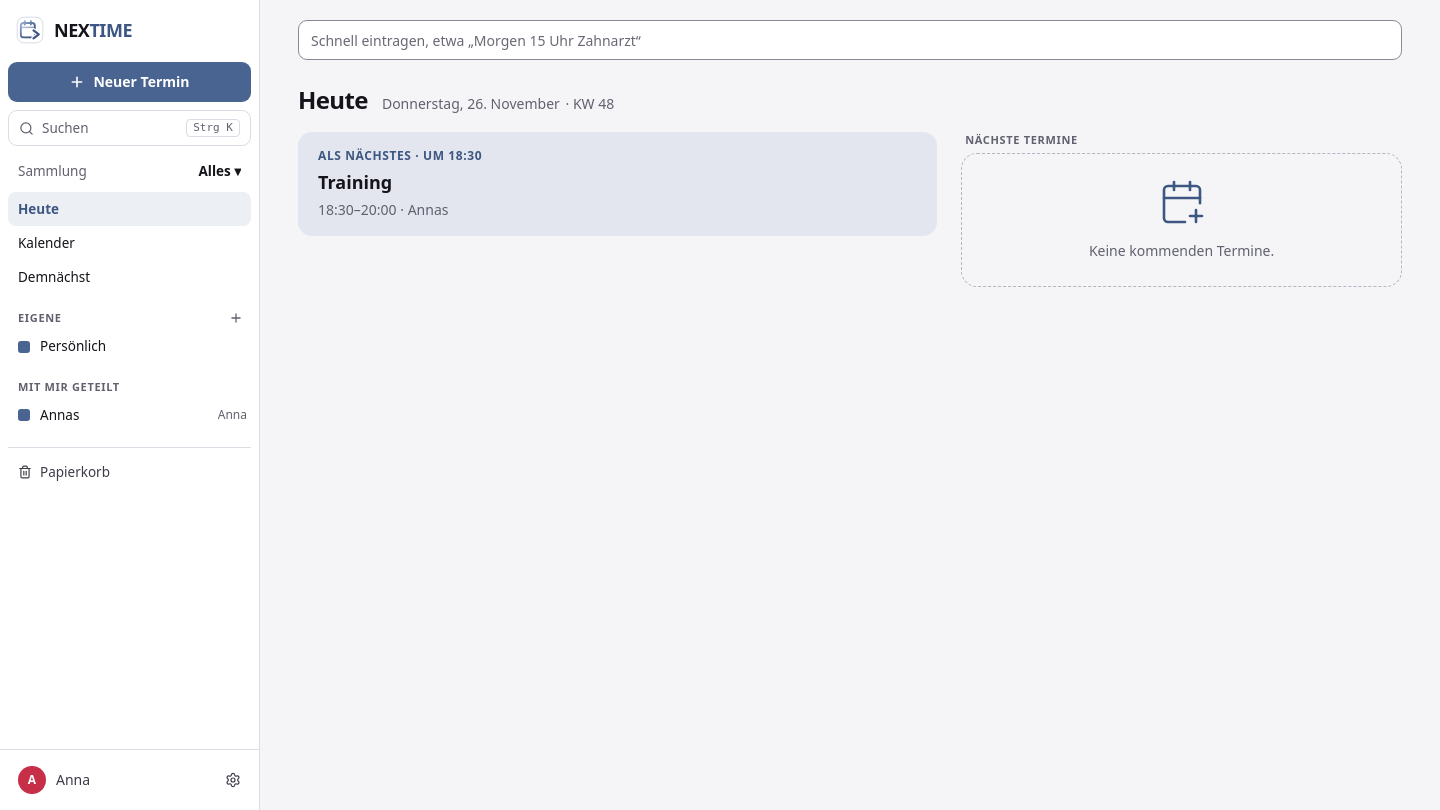
Test: TIME-5 read only, closing, conflicts, people › TIME-5 AC-5 a calendar one may only read shows no edit buttons and says why
Click the button with test id "next-day-row" at point(400, 156), box x1=298 y1=132 x2=937 y2=236
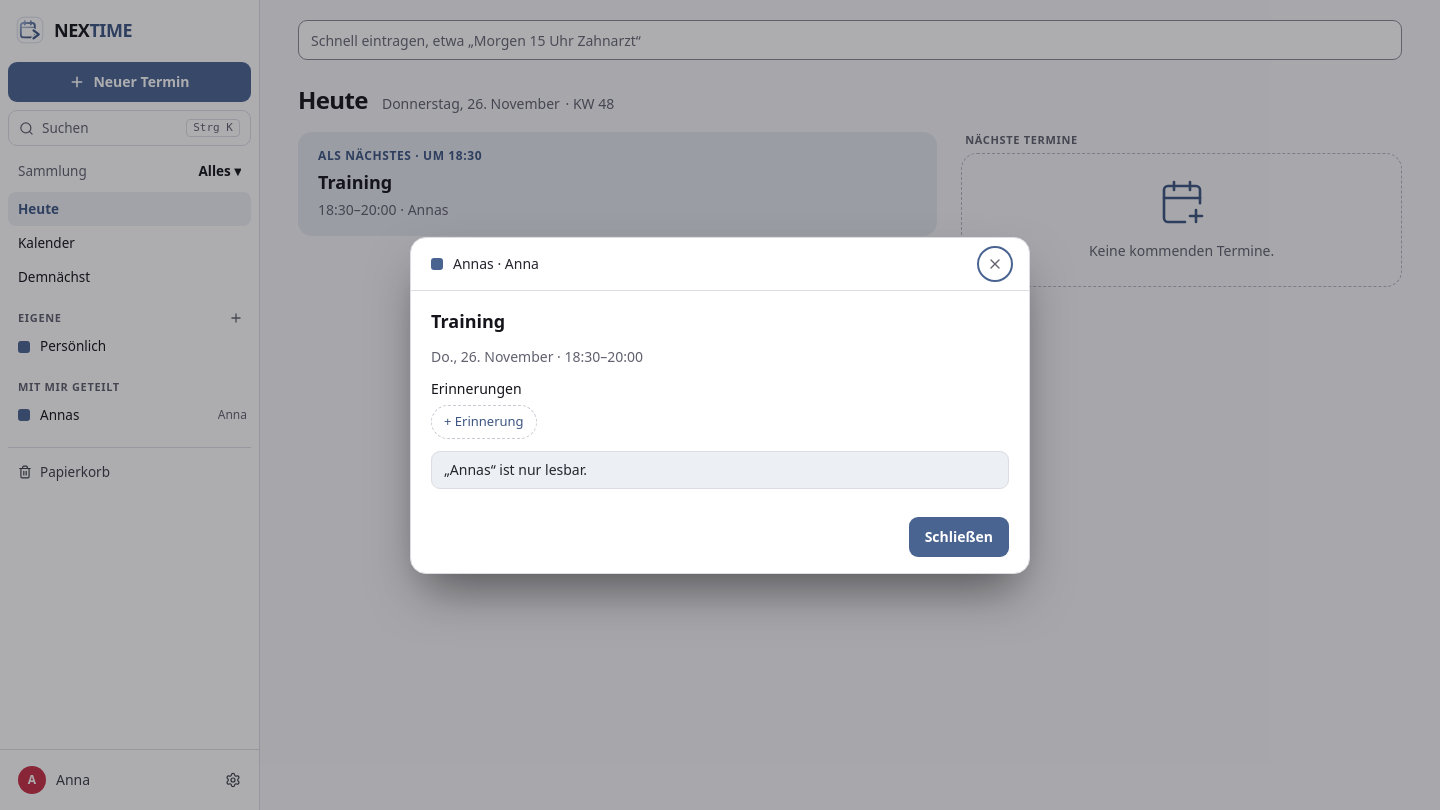
Result: the text "„Annas“ ist nur lesbar." is shown at x1=444 y1=460 x2=587 y2=478
